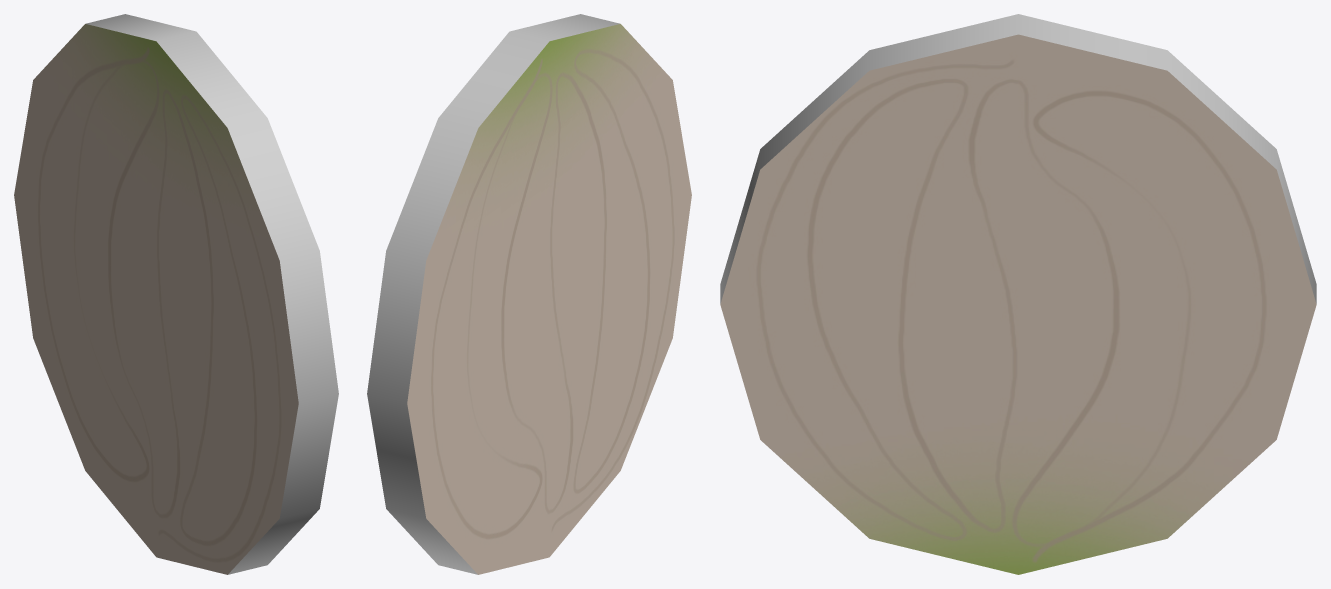
The model's file is zwiebelscheibe.fbx.
3 renders of one model, left to right at view 1: azimuth 30°, elevation 25°; view 2: azimuth 150°, elevation 25°; view 3: azimuth 270°, elevation 25°, orthographic. The views are drawn at different scales.
Parts seen in each view (by area): view 1: Scheibe; view 2: Scheibe; view 3: Scheibe.
Boxes of the visible parts, x1=… form: Scheibe: x1=14, y1=14, x2=338, y2=574; Scheibe: x1=367, y1=14, x2=691, y2=574; Scheibe: x1=720, y1=14, x2=1316, y2=574.
Size of the model in its own units: 16.28 by 200 by 200.
Materials: 2 (1 with a texture image).
